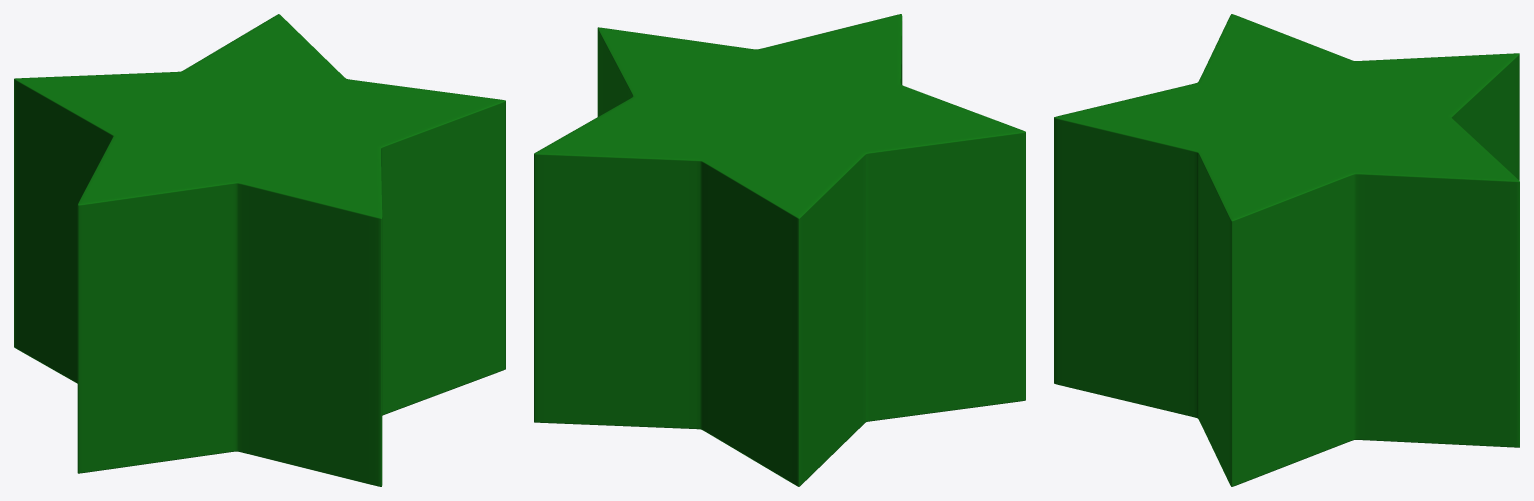
Rendered from star.gltf.
3 renders of one model, left to right at view 1: azimuth 30°, elevation 25°; view 2: azimuth 150°, elevation 25°; view 3: azimuth 270°, elevation 25°, orthographic.
Visible parts, largest first — view 1: Circle; view 2: Circle; view 3: Circle.
Part boxes in pixels (<box>): Circle: <box>14,14,505,486</box>; Circle: <box>534,14,1025,486</box>; Circle: <box>1054,14,1519,486</box>.
Bounding box in the file's own units: 1.89 × 1.14 × 1.8.
